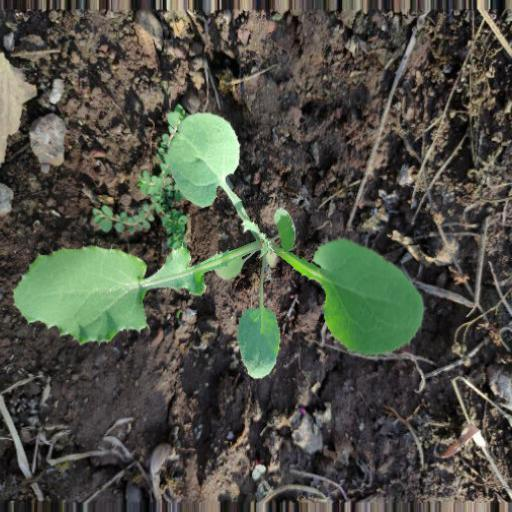weed: (12, 112, 425, 379)
